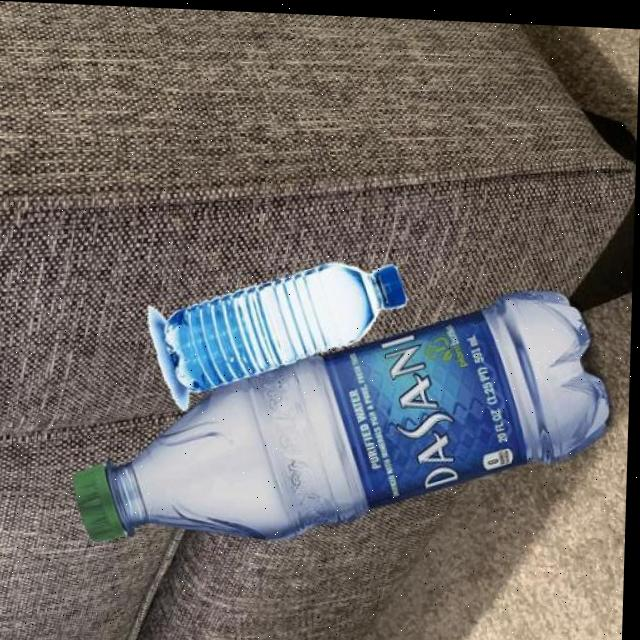bottle: (72, 265, 615, 560), (144, 249, 411, 419)
